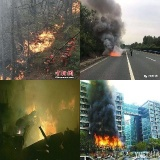fire: (19, 23, 64, 53), (27, 103, 57, 140), (94, 132, 122, 149), (59, 97, 75, 113), (1, 74, 24, 80), (71, 2, 79, 13), (16, 59, 26, 63), (111, 52, 121, 56)
